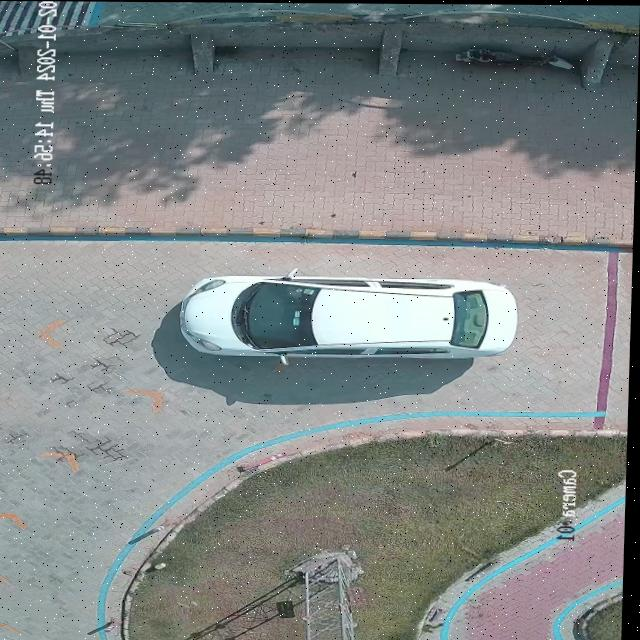car: (183, 273, 518, 357)
